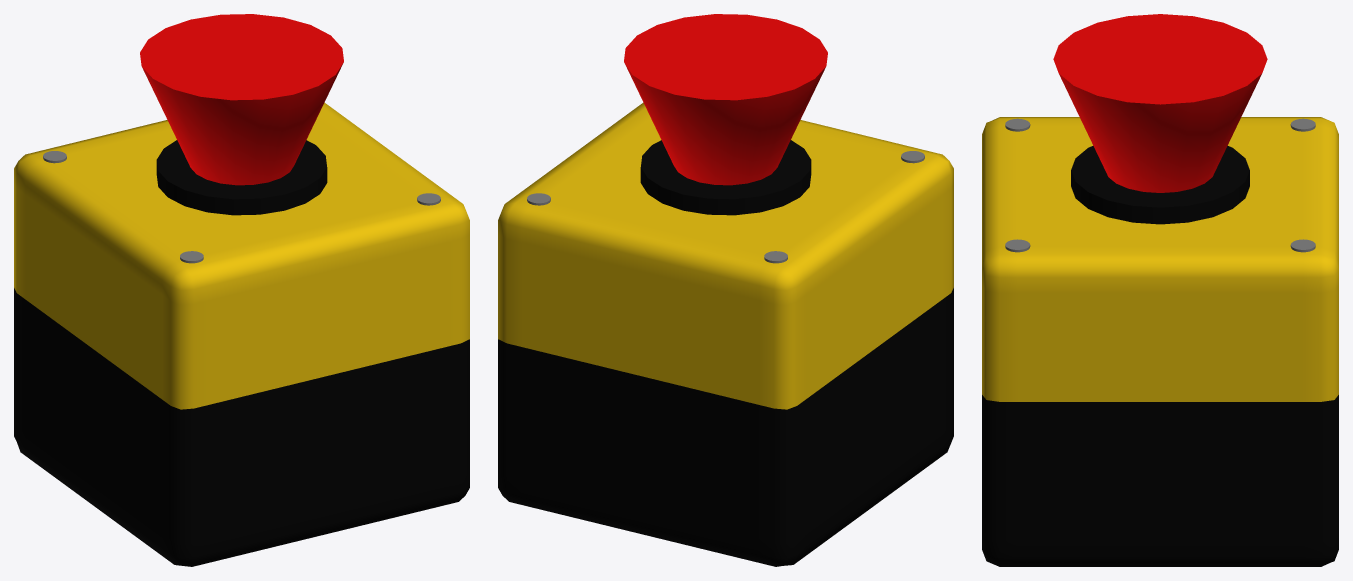
Rendered from emergency_button.fbx.
The picture shows the model from 3 angles, left to right: view 1: azimuth 30°, elevation 25°; view 2: azimuth 150°, elevation 25°; view 3: azimuth 270°, elevation 25°; orthographic projection. The views are drawn at different scales.
Visible parts, largest first — view 1: Kasten, Button, BlackUnderButton; view 2: Kasten, Button, BlackUnderButton; view 3: Kasten, Button, BlackUnderButton.
Part boxes in pixels (box(x1,y1,x2,y2)): Kasten: box(14, 102, 469, 566); Button: box(140, 14, 343, 185); BlackUnderButton: box(156, 140, 327, 215); Kasten: box(498, 102, 953, 566); Button: box(624, 14, 827, 185); BlackUnderButton: box(640, 140, 811, 215); Kasten: box(982, 117, 1338, 566); Button: box(1053, 14, 1267, 192); BlackUnderButton: box(1071, 146, 1249, 224).
Size of the model in its own units: 1 by 1.35 by 1.
